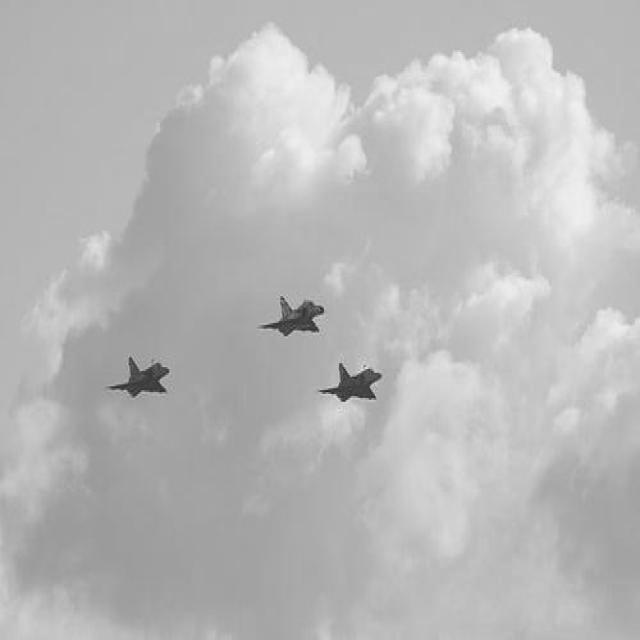aeroplane: (257, 292, 325, 340), (106, 353, 170, 398), (318, 361, 380, 404)
